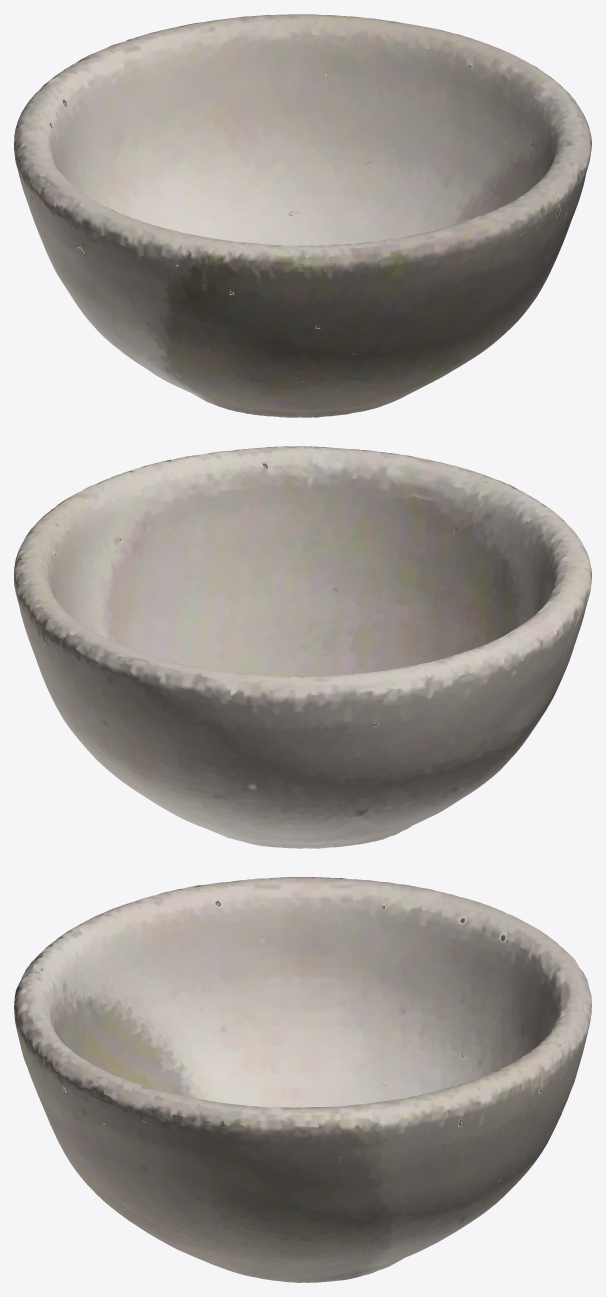
The model's file is mesh_net00_pcd.glb.
3 views of the same model, one above another, from view 1: azimuth 30°, elevation 25°; view 2: azimuth 150°, elevation 25°; view 3: azimuth 270°, elevation 25° (orthographic).
Bounding box in the file's own units: 0.6796 × 0.3103 × 0.6769.
